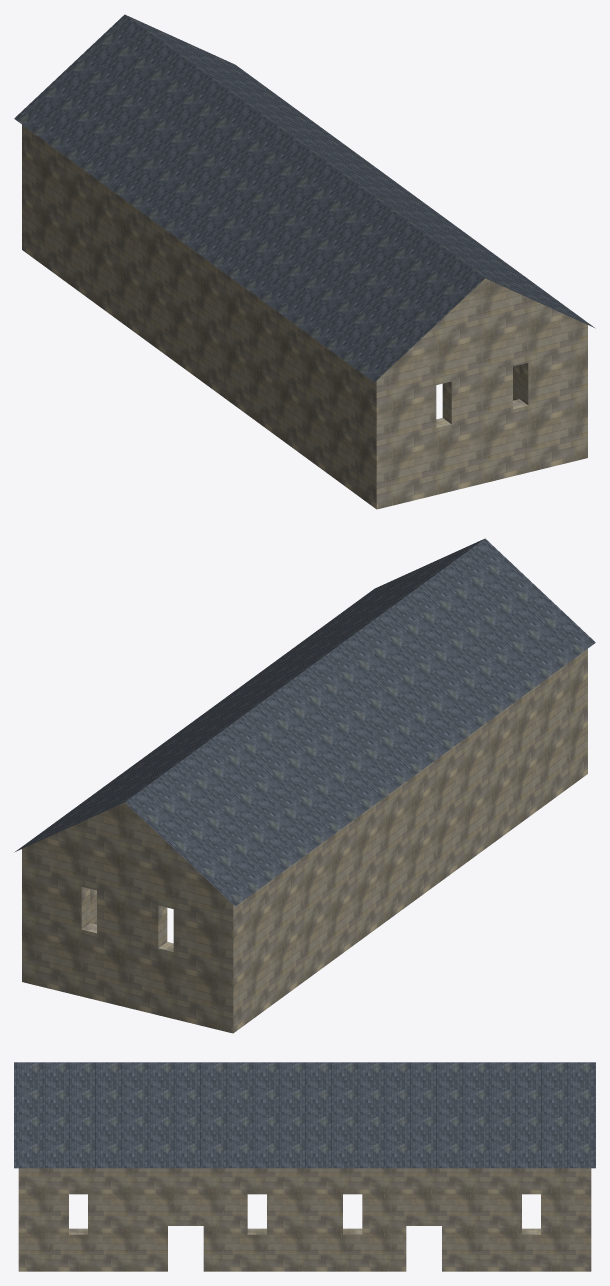
The model's file is fort-hall.fort-v1.lod1.glb.
3 renders of one model, top to bottom at view 1: azimuth 30°, elevation 25°; view 2: azimuth 150°, elevation 25°; view 3: azimuth 270°, elevation 25°, orthographic. The views are drawn at different scales.
Visible parts, largest first — view 1: fort-hall; view 2: fort-hall; view 3: fort-hall.
Boxes of the visible parts, x1,y1,x2,y2 form: fort-hall: (14, 14, 595, 509); fort-hall: (14, 538, 595, 1033); fort-hall: (14, 1062, 595, 1271).
Size of the model in its own units: 17.3 by 15.5 by 48.8.
Materials: 3 (3 with a texture image).
